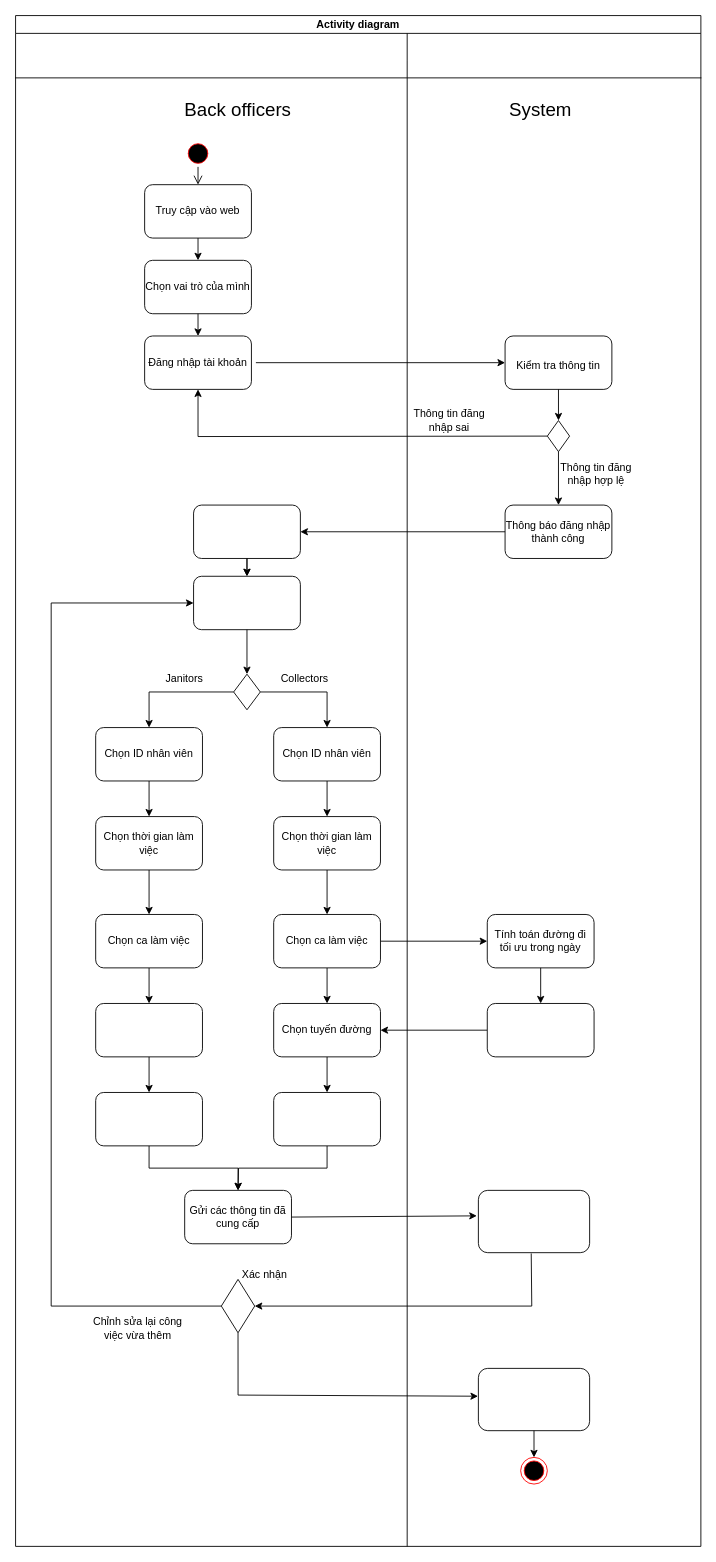
The diagram is 716 pixels wide and 1562 high, and some of its shapes have lost their labels. The shapes that lost their labels are listed below. From the top down, each one's centre as x and y in pixels, then its label:
point (246, 531): Thêm công việc
point (246, 602): Chọn loại nhân viên
point (148, 1030): Chọn khu vực làm việc
point (540, 1030): Thiết lập lộ trình
point (148, 1119): Chọn nơi lấy troller
point (326, 1119): Chọn ID vehicle
point (533, 1221): Hệ thống hiển thị lại thông tin công việc một cách tổng quát
point (533, 1399): Hệ thông lưu lại dữ liệu đã thiết lập
